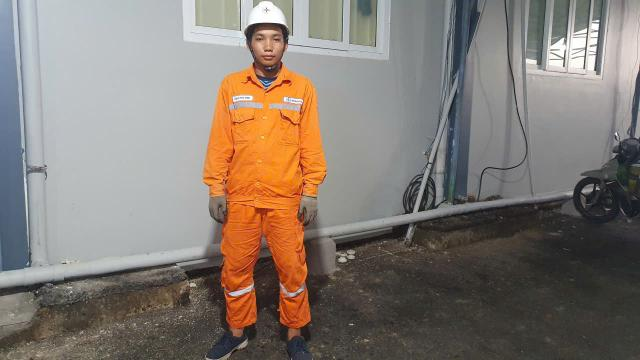gloves: (204, 184, 242, 230), (297, 185, 326, 227)
helmet: (237, 0, 300, 38)
shoes: (202, 325, 256, 360), (282, 332, 318, 360)
